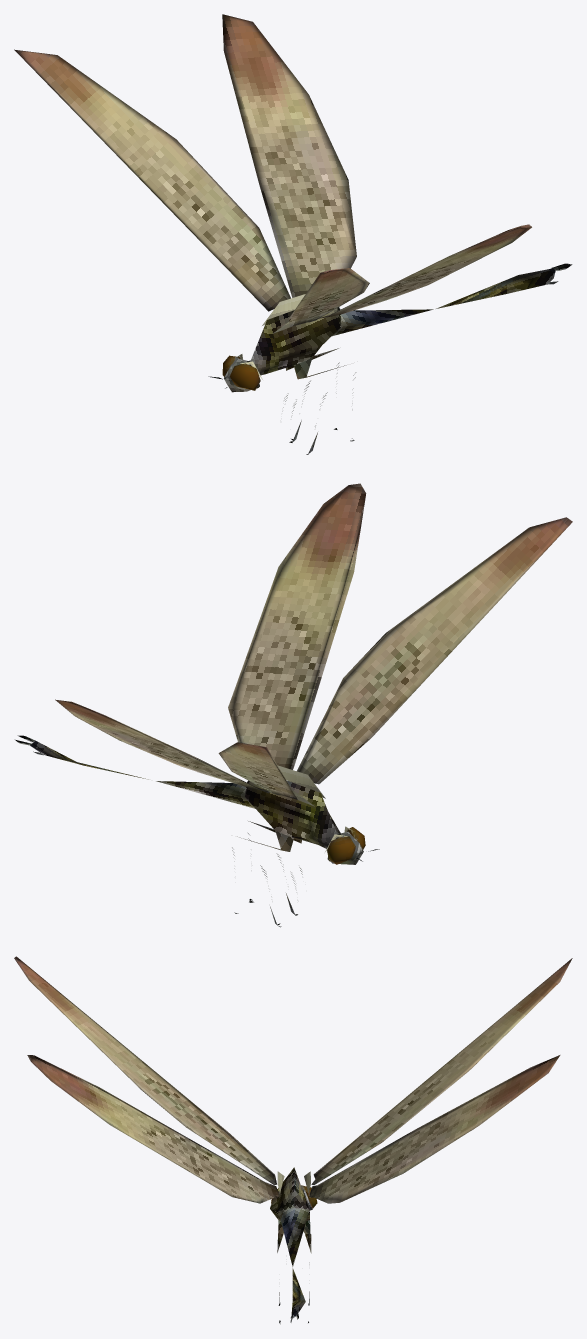
File: meganeura.glb
The picture shows the model from 3 angles, top to bottom: view 1: azimuth 30°, elevation 25°; view 2: azimuth 150°, elevation 25°; view 3: azimuth 270°, elevation 25°; orthographic projection. The views are drawn at different scales.
Visible parts, largest first — view 1: Animal; view 2: Animal; view 3: Animal.
Boxes of the visible parts, x1,y1,x2,y2 form: Animal: [14, 14, 572, 454]; Animal: [14, 483, 572, 927]; Animal: [14, 956, 572, 1324].
Size of the model in its own units: 2.42 by 1.84 by 3.19.
Materials: 2 (2 with a texture image).
